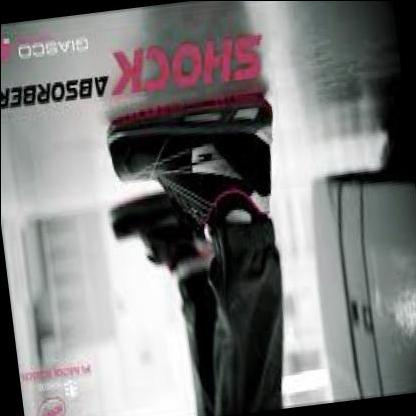safety-shoe: (93, 58, 287, 234)
